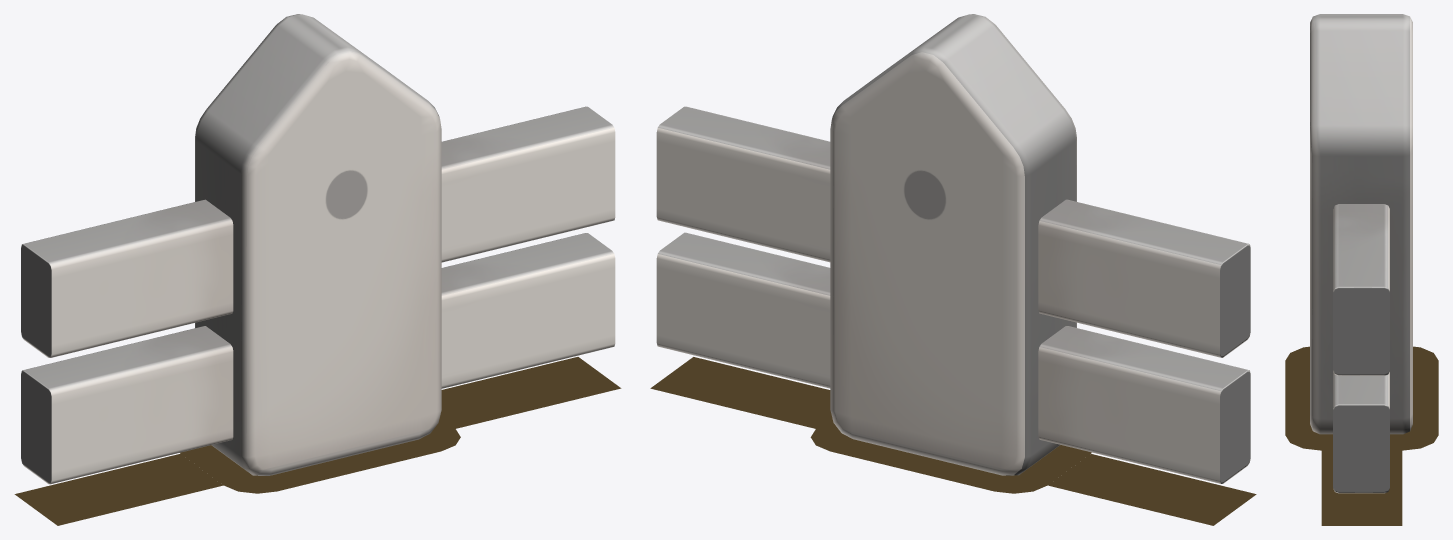
File: FenceB_2side.fbx
3 views of the same model, side by side, from view 1: azimuth 30°, elevation 25°; view 2: azimuth 150°, elevation 25°; view 3: azimuth 270°, elevation 25° (orthographic). The views are drawn at different scales.
Visible parts, largest first — view 1: FenceB2side_body, FenceB2side_R, FenceB2side_L, FenceB2side_SDW; view 2: FenceB2side_body, FenceB2side_R, FenceB2side_L, FenceB2side_SDW; view 3: FenceB2side_body, FenceB2side_L, FenceB2side_SDW.
Part boxes in pixels (x1=…): FenceB2side_body: x1=195, y1=14, x2=441, y2=475; FenceB2side_R: x1=21, y1=199, x2=233, y2=484; FenceB2side_L: x1=441, y1=106, x2=615, y2=388; FenceB2side_SDW: x1=14, y1=357, x2=621, y2=525; FenceB2side_body: x1=830, y1=14, x2=1076, y2=475; FenceB2side_R: x1=1038, y1=199, x2=1250, y2=483; FenceB2side_L: x1=656, y1=106, x2=830, y2=388; FenceB2side_SDW: x1=650, y1=357, x2=1256, y2=525; FenceB2side_body: x1=1310, y1=14, x2=1412, y2=434; FenceB2side_L: x1=1333, y1=204, x2=1389, y2=493; FenceB2side_SDW: x1=1285, y1=346, x2=1438, y2=525.
Size of the model in its own units: 99.99 by 69.37 by 25.3.
Materials: 2 (1 with a texture image).
